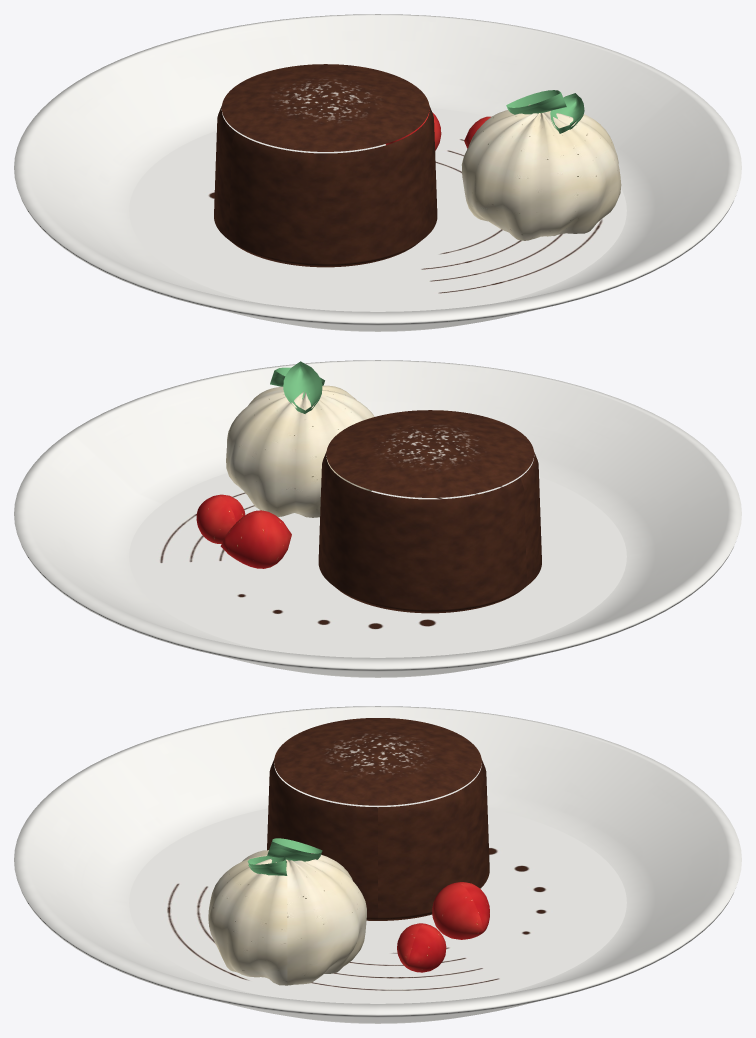
Rendered from petit-gateau.glb.
3 views of the same model, one above another, from view 1: azimuth 30°, elevation 25°; view 2: azimuth 150°, elevation 25°; view 3: azimuth 270°, elevation 25° (orthographic).
Visible parts, largest first — view 1: petit-gateau; view 2: petit-gateau; view 3: petit-gateau.
Part boxes in pixels (<box>): petit-gateau: <box>14,14,741,331</box>; petit-gateau: <box>14,360,741,677</box>; petit-gateau: <box>14,706,741,1023</box>.
Bounding box in the file's own units: 0.241 × 0.054 × 0.241.
Materials: 7 (6 with a texture image).
